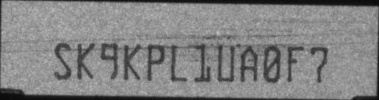0: (263, 44, 282, 82)
1: (193, 42, 212, 82)
7: (309, 45, 331, 82)
9: (100, 41, 118, 79)
A: (239, 43, 259, 82)
F: (286, 45, 304, 83)
K: (123, 42, 142, 80), (76, 42, 95, 79)
L: (170, 42, 189, 82)
P: (146, 43, 166, 80)
S: (53, 40, 72, 80)
U: (217, 42, 235, 82)
